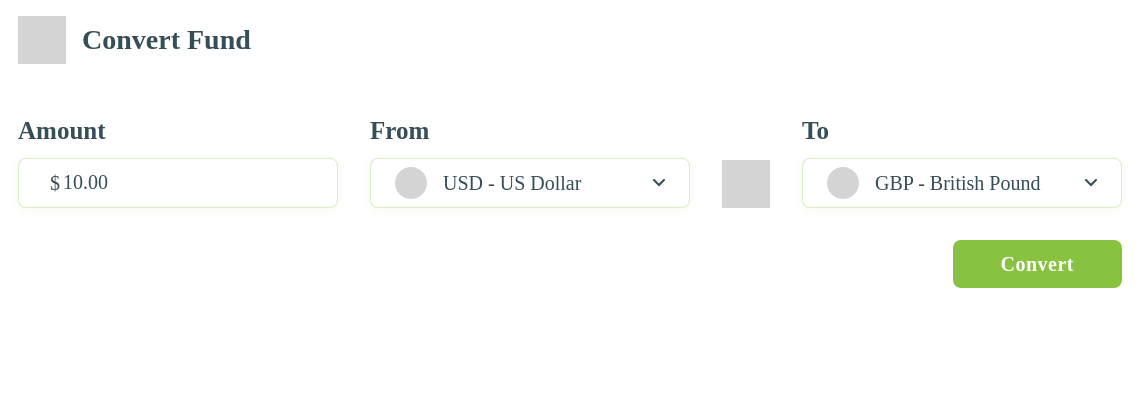
Scenario: Converter Component › Currency Conversion › should validate amount is not zero
Type "0" into the number field labelled "Amount". click: (178, 182)
box: top-left (18, 158), bottom-right (338, 208)
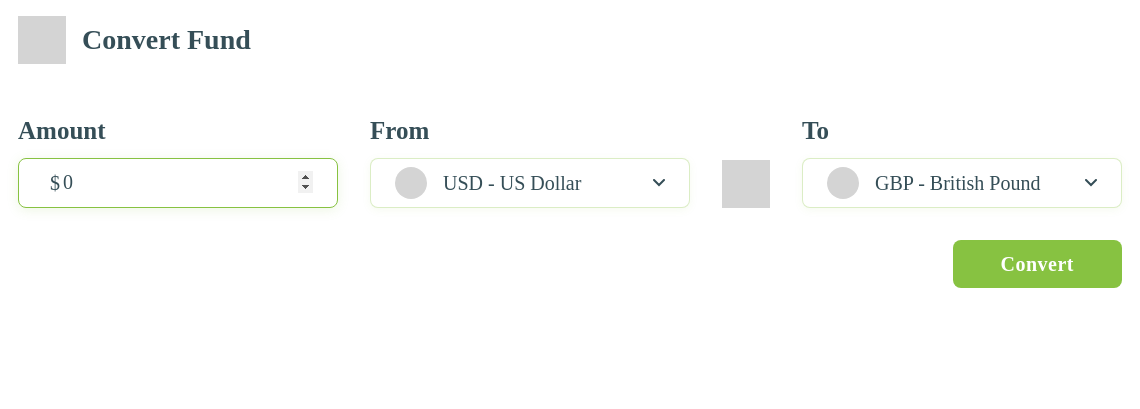
Click the button "Convert". click: (1037, 264)
box: top-left (952, 240), bottom-right (1122, 288)
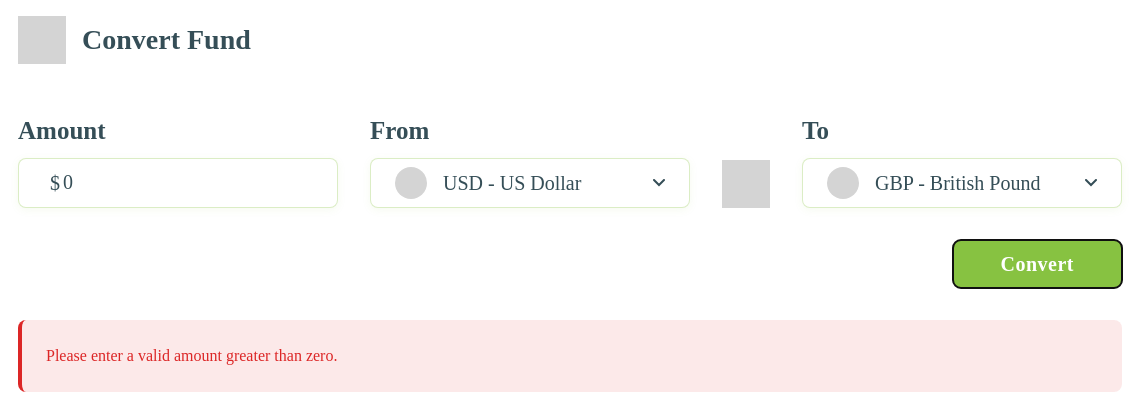
Check: the text "Please enter a valid amount greater than zero." is shown, box top-left (18, 320), bottom-right (1122, 392)
